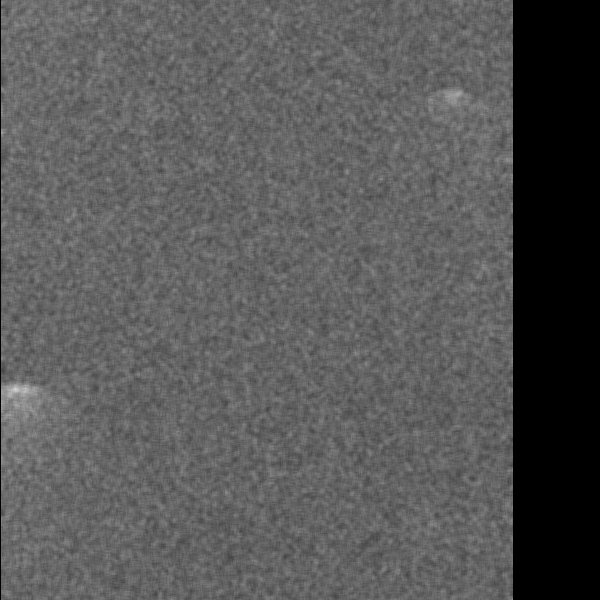spark: (439, 86, 477, 123), (6, 378, 27, 419)
